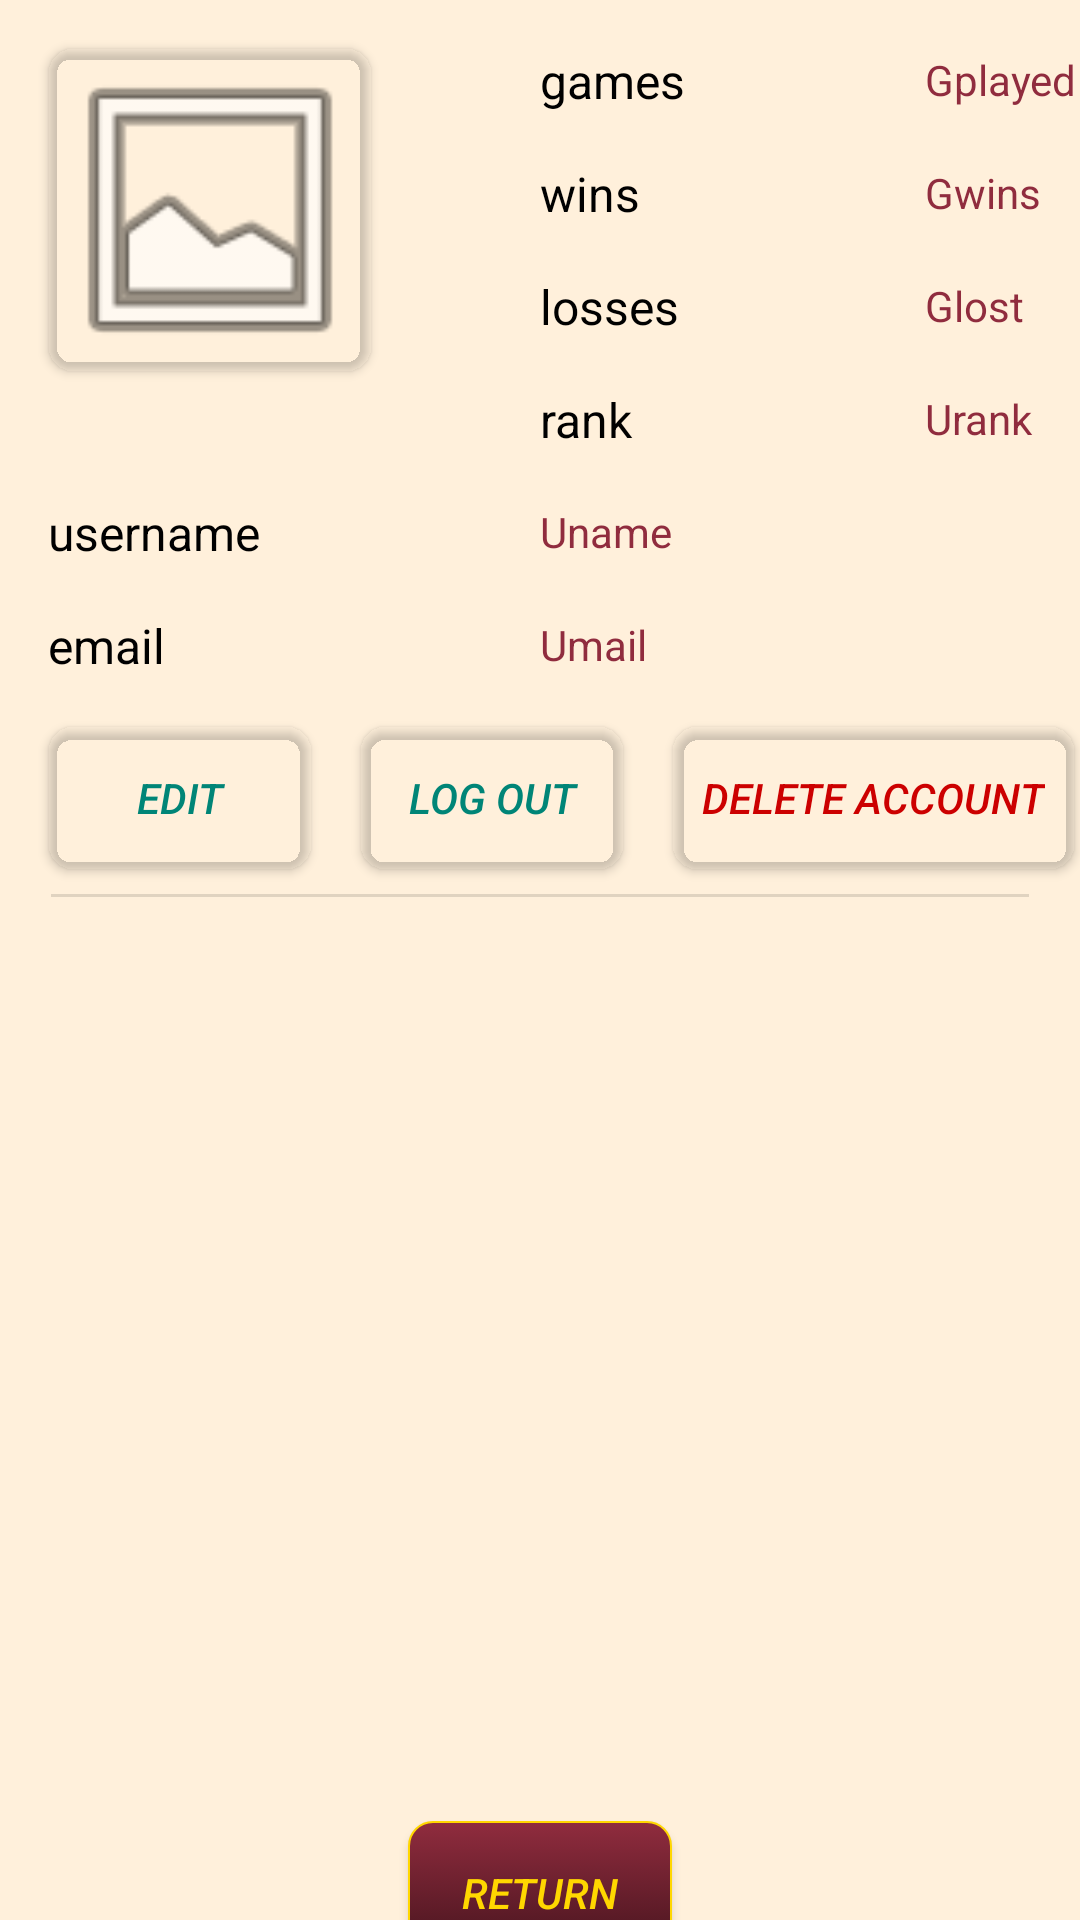

Screen size 1080 × 1920. Icon name, then its box in pixels as (x1, y1, x2, y2):
gallery: (49, 53, 367, 371)
